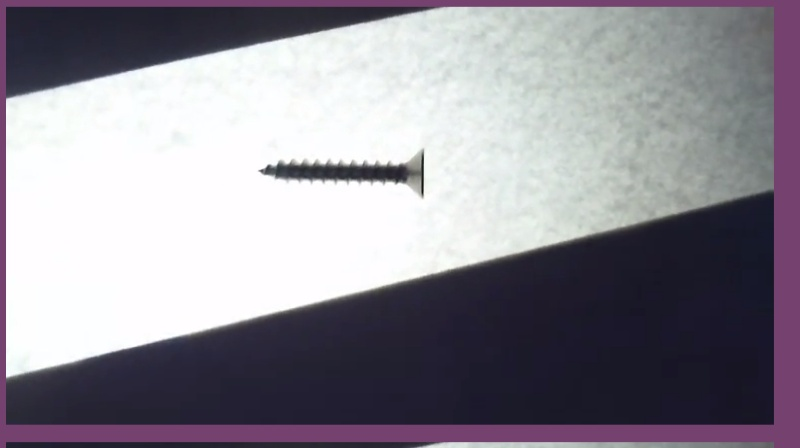S001: (258, 145, 432, 200)
